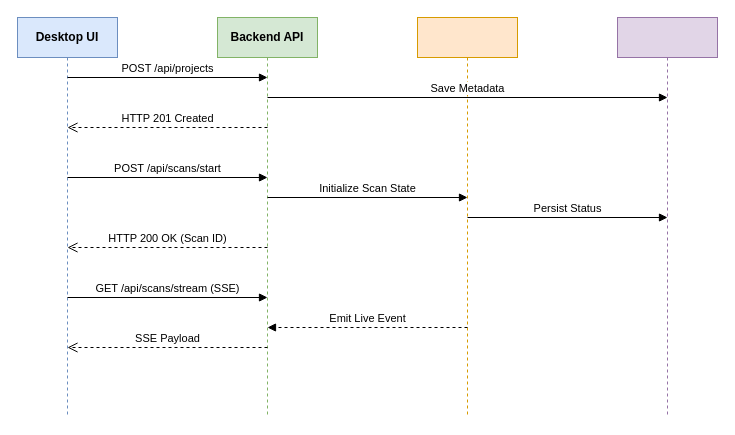
This 735x435 diagram has some shape labels left out. The shapes that lost their labels are listed below. From the top down, each one's box as (x1, y1, x2, y2) in pixels, then its label:
(416, 16, 518, 418): Scan Orchestrator
(616, 16, 718, 418): Storage Layer
